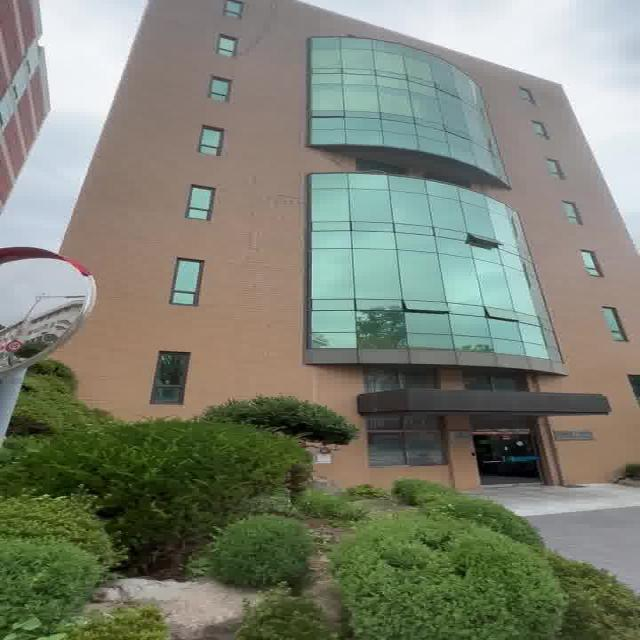building: (83, 7, 634, 423)
